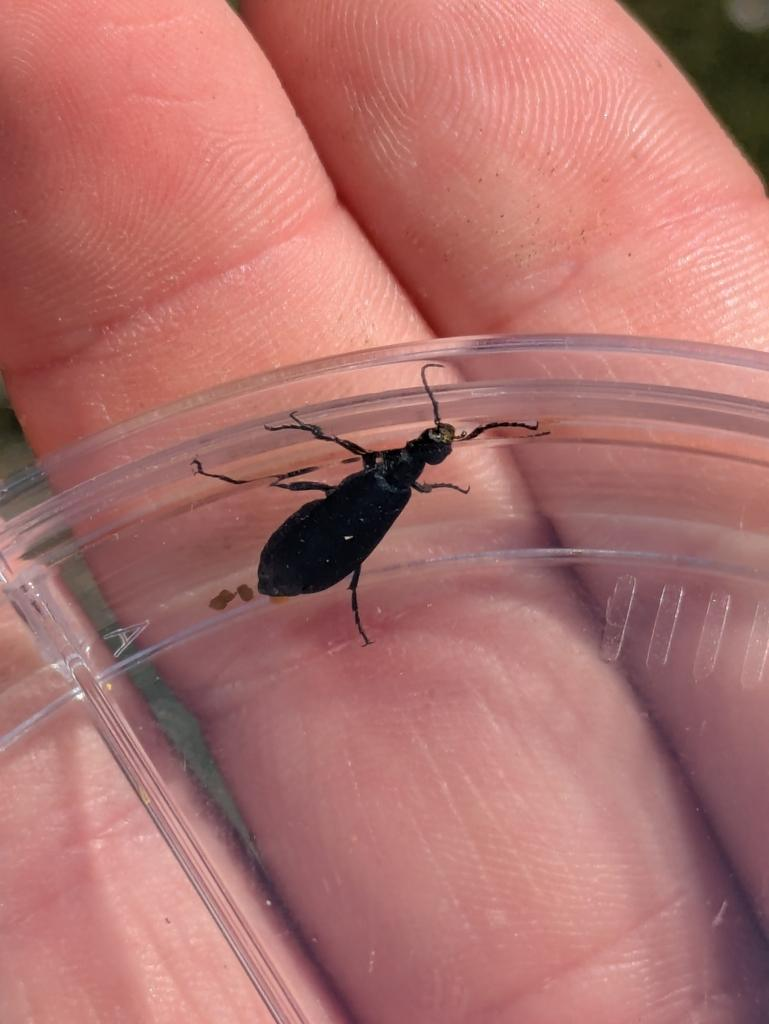blister_beetle: (150, 308, 602, 712)
